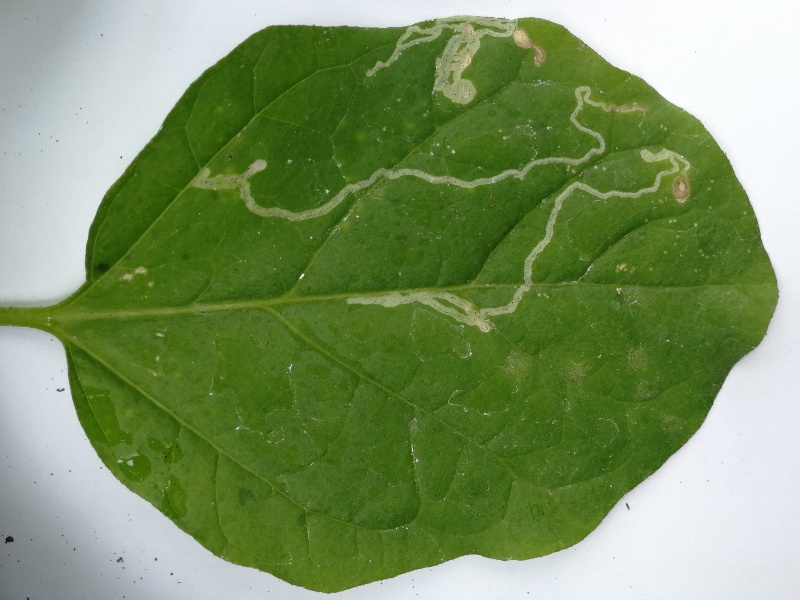leafminer: (342, 147, 695, 334), (188, 82, 651, 222), (362, 15, 550, 114)
